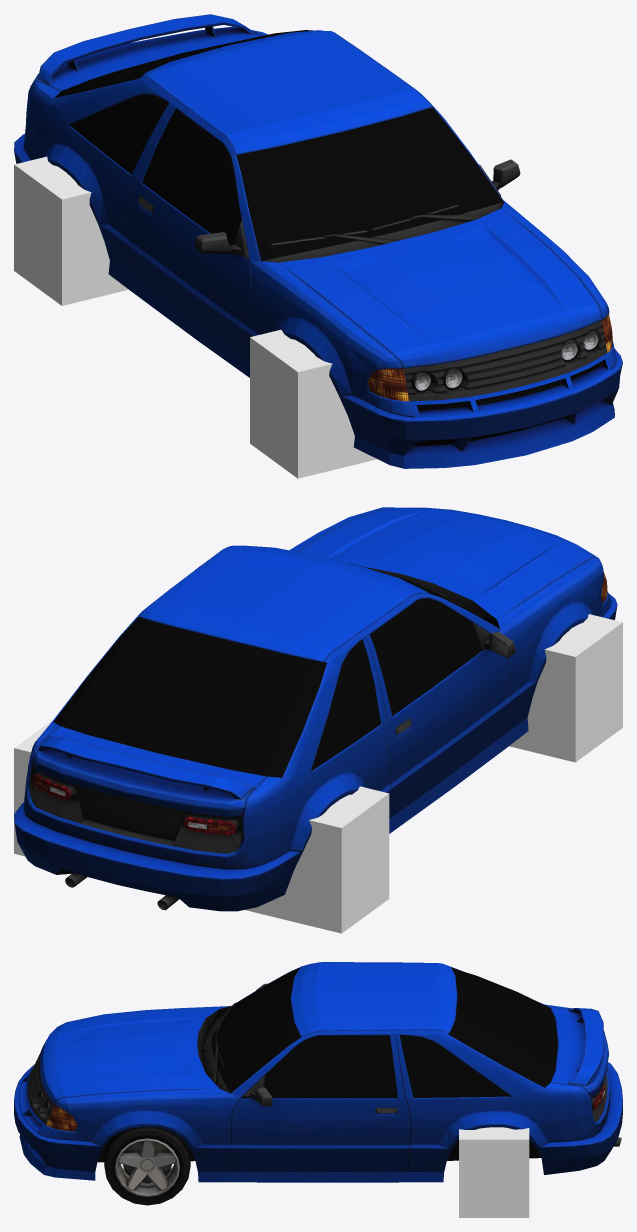
Rendered from coupe.glb.
3 views of the same model, one above another, from view 1: azimuth 30°, elevation 25°; view 2: azimuth 150°, elevation 25°; view 3: azimuth 270°, elevation 25° (orthographic). The views are drawn at different scales.
Parts seen in each view (by area): view 1: body, wheelFrontRight, wheelBackRight; view 2: body, wheelBackRight, wheelFrontRight, wheelBackLeft; view 3: body, wheelBackLeft, wheelFrontLeft.
Part boxes in pixels (x1,y1,x2,y2): body: (14, 14, 622, 468); wheelFrontRight: (250, 329, 377, 478); wheelBackRight: (14, 156, 128, 305); body: (14, 507, 617, 911); wheelBackRight: (245, 786, 389, 933); wheelFrontRight: (509, 614, 622, 762); wheelBackLeft: (14, 719, 53, 856); body: (14, 962, 622, 1182); wheelBackLeft: (459, 1127, 529, 1217); wheelFrontLeft: (104, 1126, 190, 1205).
Bounding box in the file's own units: 1.95 × 1.28 × 4.24.
5 materials, 3 textured.
